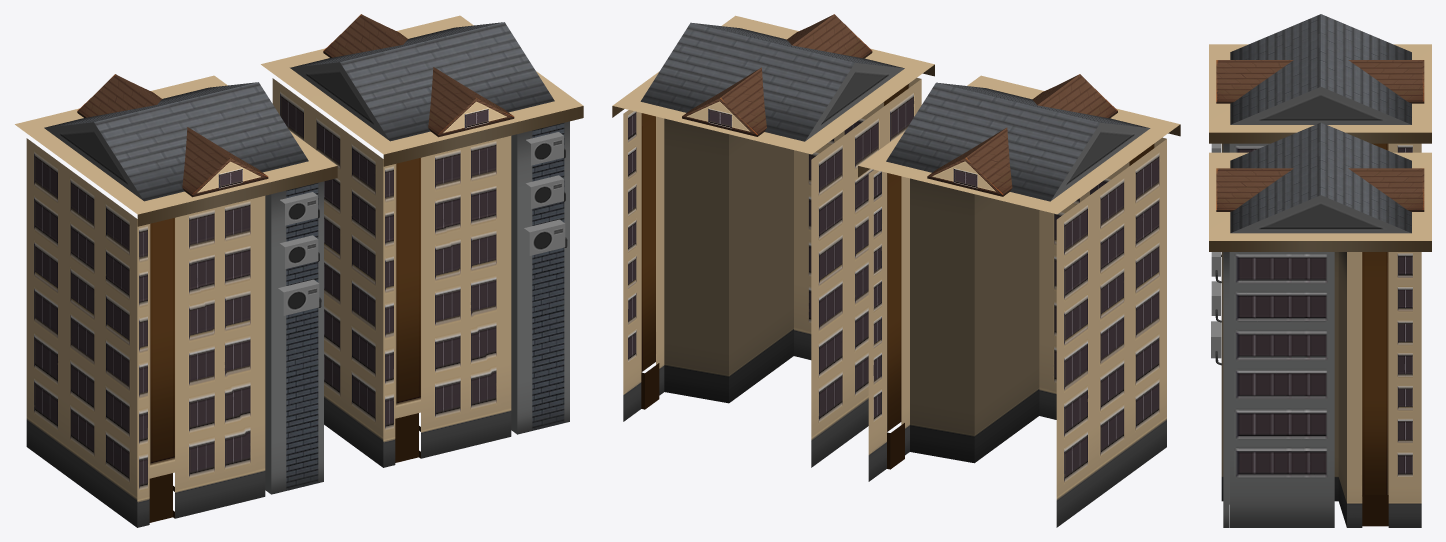
The model's file is Tx_Exterior_Property_LI_FlatT2_20170731.fbx.
3 views of the same model, side by side, from view 1: azimuth 30°, elevation 25°; view 2: azimuth 150°, elevation 25°; view 3: azimuth 270°, elevation 25° (orthographic). The views are drawn at different scales.
Visible parts, largest first — view 1: Building1, Building; view 2: Building1, Building; view 3: Building, Building1.
Boxes of the visible parts, box(x1,y1,x2,y2) form: Building1: box(15, 74, 337, 527); Building: box(261, 14, 583, 467); Building1: box(858, 74, 1180, 527); Building: box(612, 14, 934, 467); Building: box(1209, 122, 1431, 527); Building1: box(1209, 14, 1431, 256).
Bounding box in the file's own units: 40.63 × 31.59 × 19.47.
